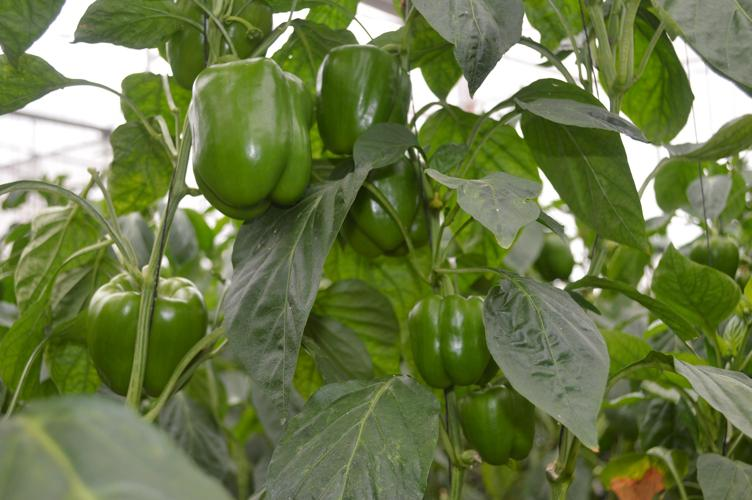BellPepper: (180, 58, 331, 209), (82, 271, 205, 394), (322, 39, 436, 153), (342, 159, 439, 256), (399, 287, 496, 384), (450, 379, 539, 467)
